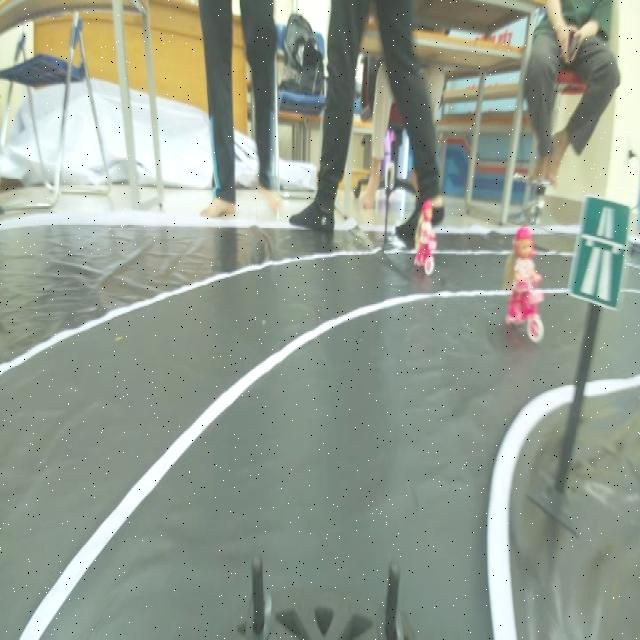highway_entry: (572, 192, 626, 307)
pedestrian: (504, 222, 550, 345), (413, 201, 442, 276)
